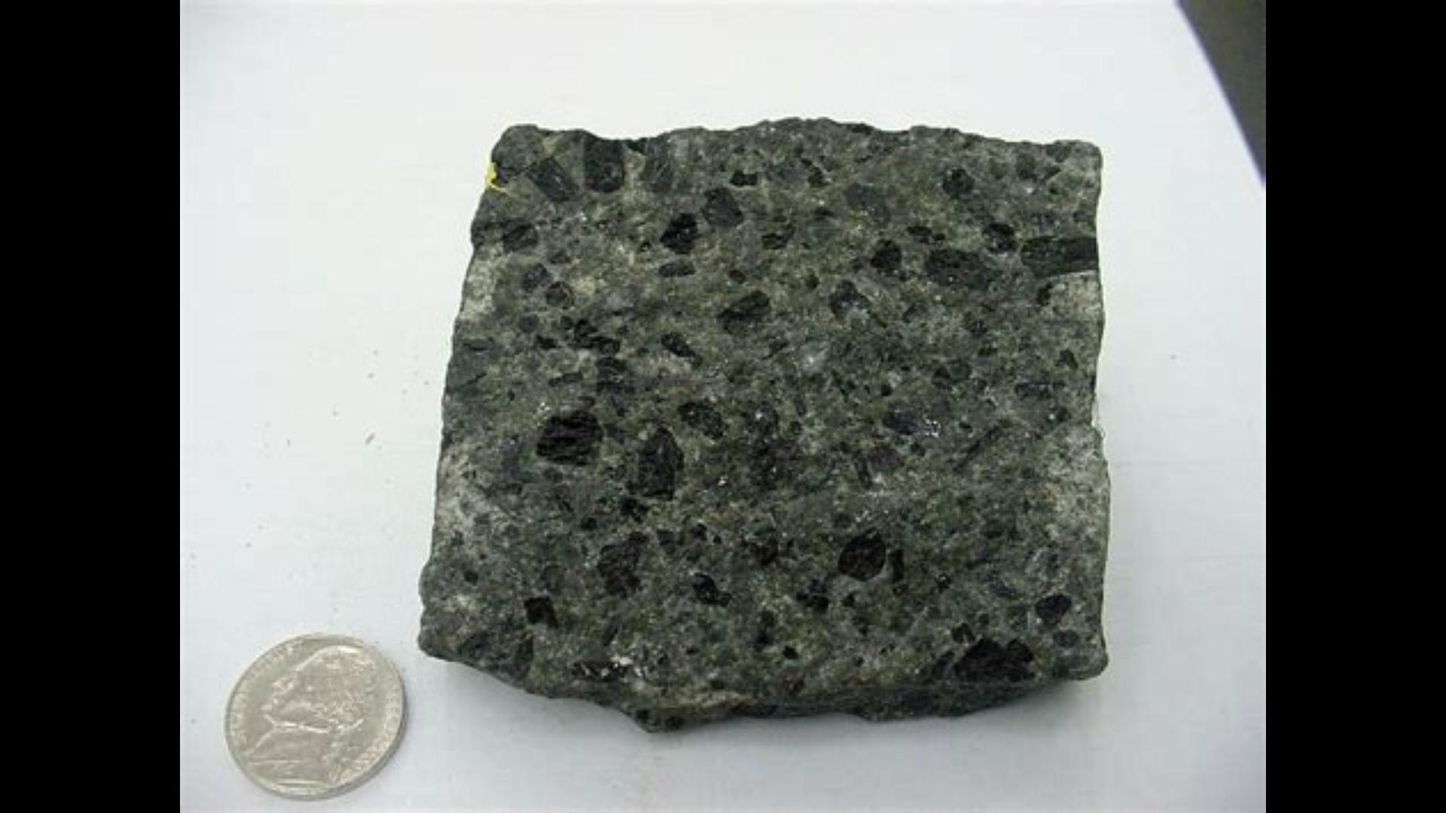rock: (421, 119, 1099, 726)
